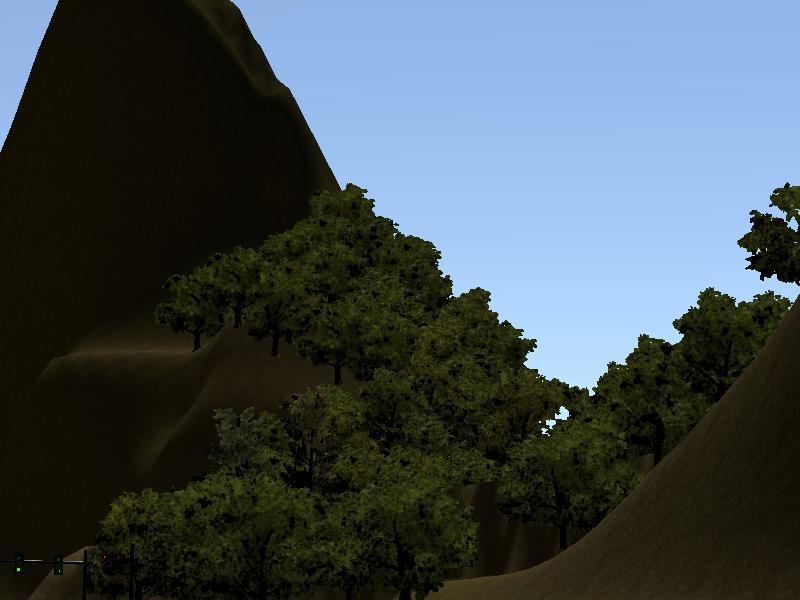GREEN: (10, 545, 28, 580)
